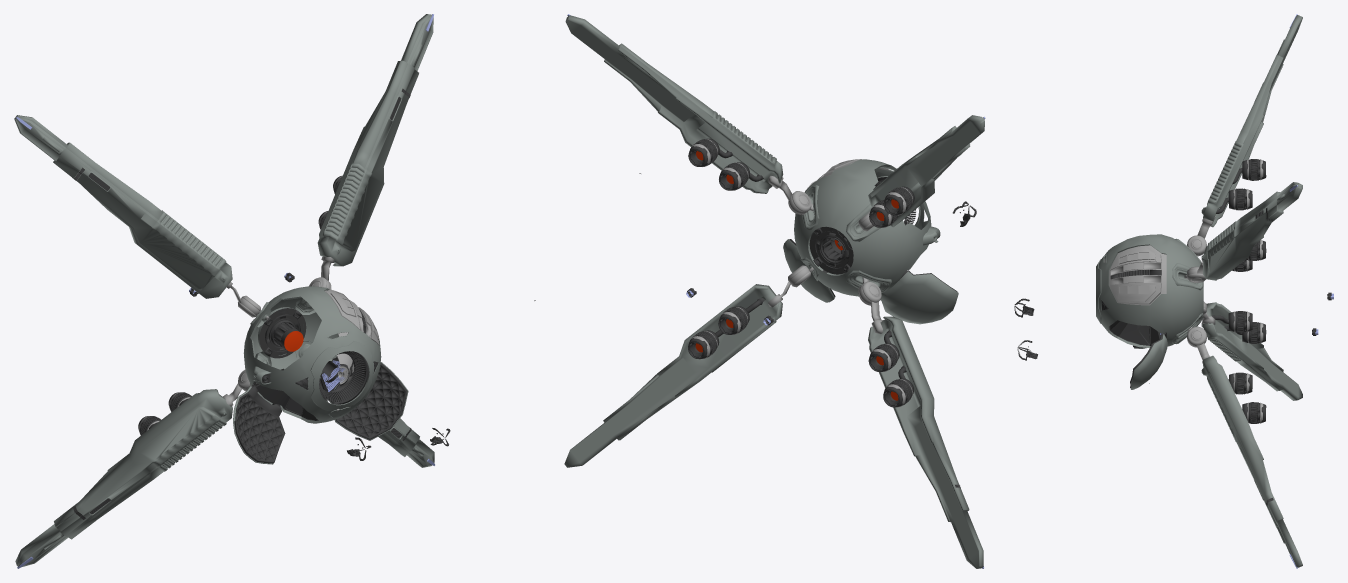
Rendered from Dron.glb.
3 views of the same model, side by side, from view 1: azimuth 30°, elevation 25°; view 2: azimuth 150°, elevation 25°; view 3: azimuth 270°, elevation 25° (orthographic). The views are drawn at different scales.
Visible parts, largest first — view 1: Cylinder.004, Cylinder.028, Cylinder.003, Sphere.001, Sphere.011, Sphere.005, Sphere.012, Cylinder.001, Sphere.102, Sphere.013, Sphere.020, Sphere.010; view 2: Cylinder.003, Cylinder.004, Cylinder.001, Sphere.001, Cylinder.028, Sphere.005, Sphere.012, Sphere.011; view 3: Sphere.001, Cylinder.001, Cylinder.028, Cylinder.003, Cylinder.004, Sphere.102, Sphere.011, Sphere.014, Cube.001.
Part boxes in pixels (bbox=[...]): Cylinder.004: bbox=[15, 370, 251, 568]; Cylinder.028: bbox=[14, 115, 268, 319]; Cylinder.003: bbox=[309, 14, 433, 289]; Sphere.001: bbox=[243, 286, 381, 423]; Sphere.011: bbox=[327, 362, 408, 440]; Sphere.005: bbox=[233, 384, 285, 464]; Sphere.012: bbox=[259, 308, 306, 358]; Cylinder.001: bbox=[378, 418, 434, 467]; Sphere.102: bbox=[324, 289, 379, 344]; Sphere.013: bbox=[253, 368, 318, 420]; Sphere.020: bbox=[319, 351, 365, 402]; Sphere.010: bbox=[336, 351, 368, 404]; Cylinder.003: bbox=[565, 14, 813, 214]; Cylinder.004: bbox=[858, 277, 984, 568]; Cylinder.001: bbox=[564, 265, 813, 467]; Sphere.001: bbox=[794, 159, 931, 296]; Cylinder.028: bbox=[858, 115, 985, 231]; Sphere.005: bbox=[881, 270, 958, 324]; Sphere.012: bbox=[809, 226, 853, 274]; Sphere.011: bbox=[783, 239, 835, 302]; Sphere.001: bbox=[1096, 234, 1203, 347]; Cylinder.001: bbox=[1187, 326, 1302, 568]; Cylinder.028: bbox=[1187, 14, 1302, 256]; Cylinder.003: bbox=[1184, 182, 1302, 282]; Cylinder.004: bbox=[1201, 301, 1302, 400]; Sphere.102: bbox=[1109, 245, 1166, 305]; Sphere.011: bbox=[1130, 333, 1167, 389]; Sphere.014: bbox=[1109, 320, 1166, 345]; Cube.001: bbox=[1172, 263, 1203, 290].
Bounding box in the file's own units: 7.26 × 7.27 × 5.48.
